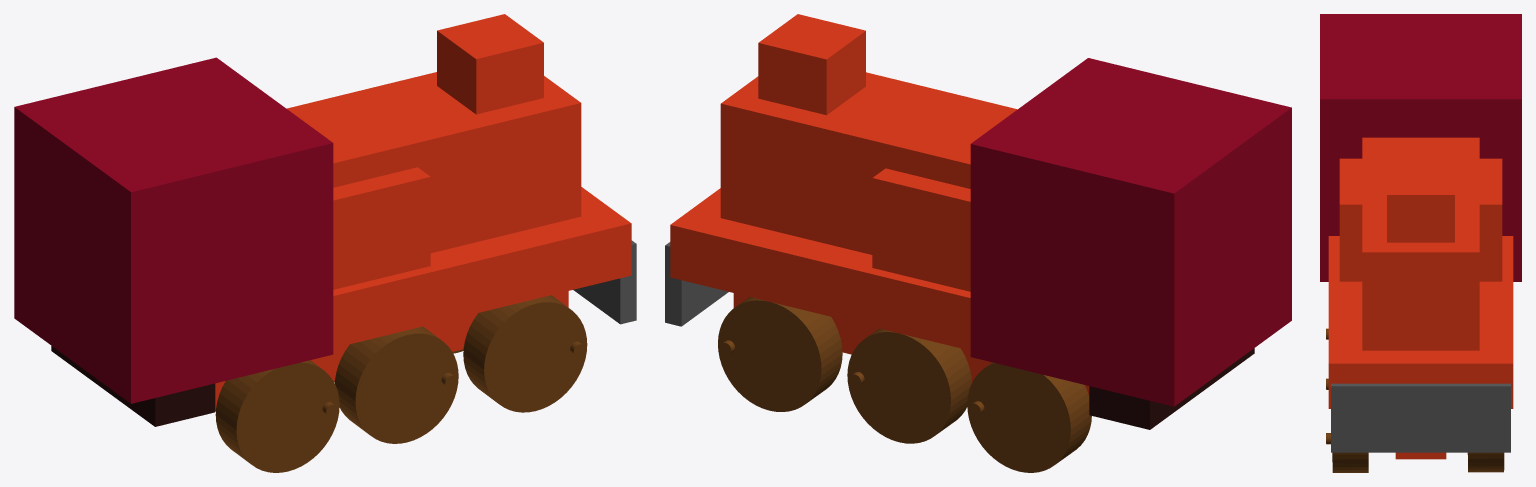
File: huoche1.0.fbx
3 views of the same model, side by side, from view 1: azimuth 30°, elevation 25°; view 2: azimuth 150°, elevation 25°; view 3: azimuth 270°, elevation 25° (orthographic). The views are drawn at different scales.
Parts seen in each view (by area): view 1: Cube.003; view 2: Cube.003; view 3: Cube.003.
Part boxes in pixels (x1,y1,x2,y2): Cube.003: [14, 14, 636, 472]; Cube.003: [665, 14, 1291, 472]; Cube.003: [1320, 14, 1521, 472].
Bounding box in the file's own units: 871 × 546 × 344.
